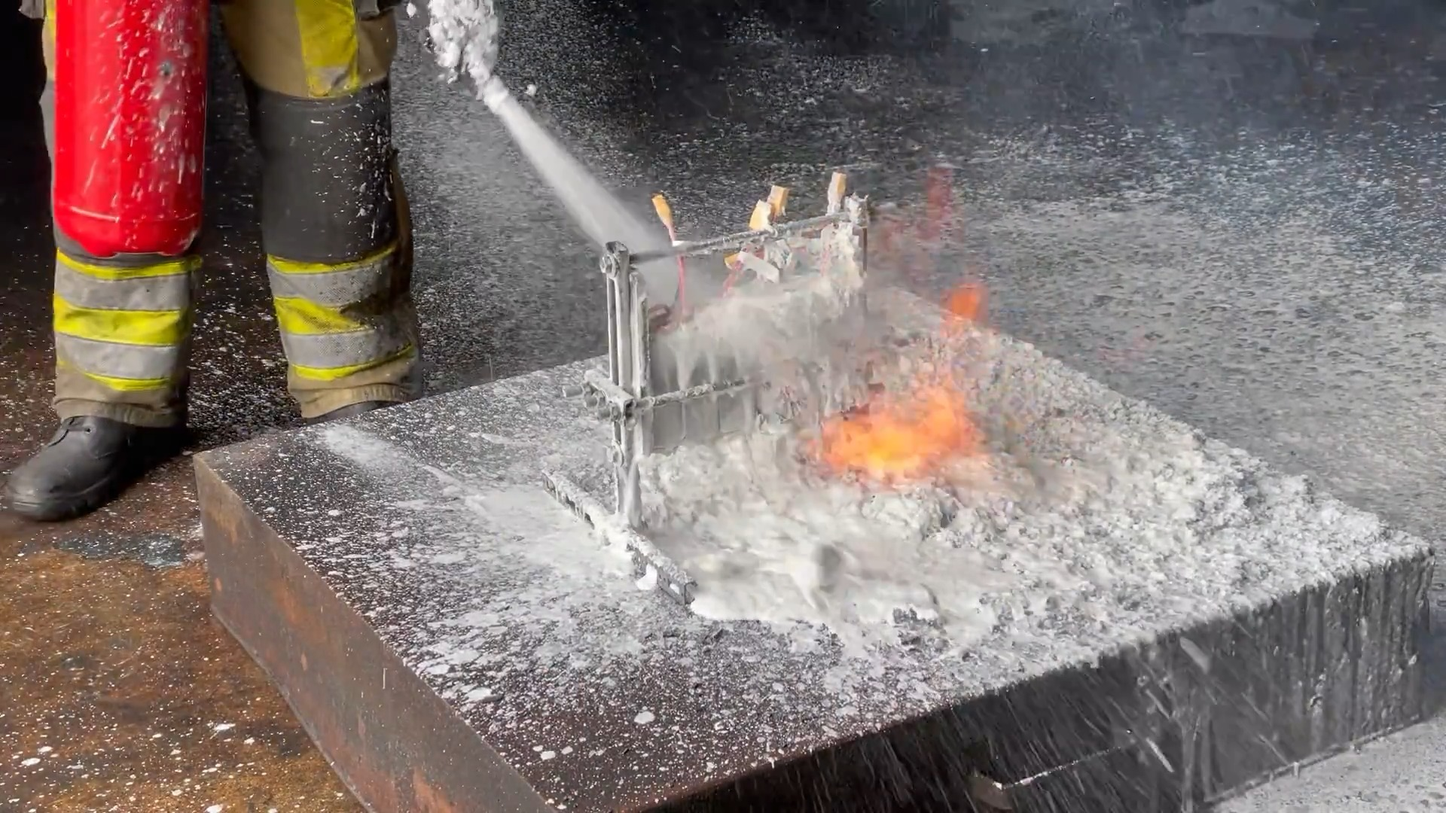fire: (813, 281, 996, 492)
